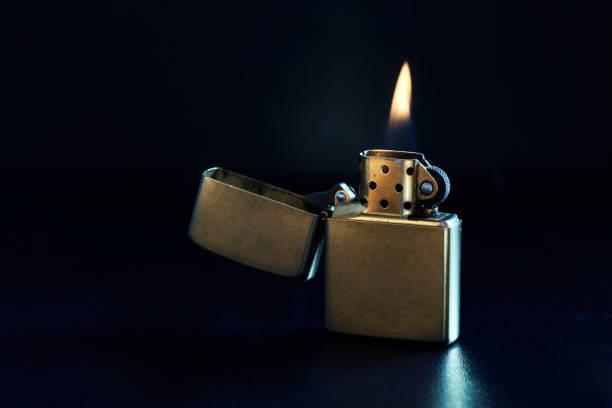Fire: (383, 58, 420, 150)
